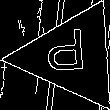P_S: (49, 30, 94, 83)
